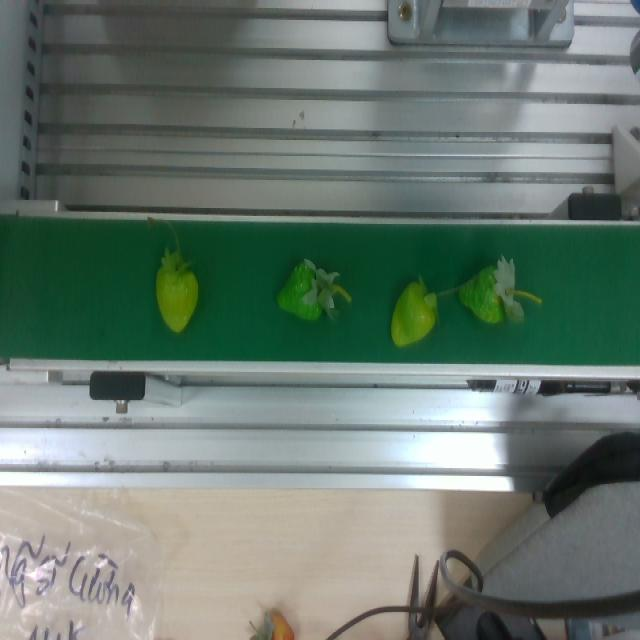Small Unripe Strawberry: (149, 235, 204, 342), (274, 248, 339, 328), (382, 266, 440, 354), (456, 250, 521, 326)
conveyor: (0, 204, 638, 370)
